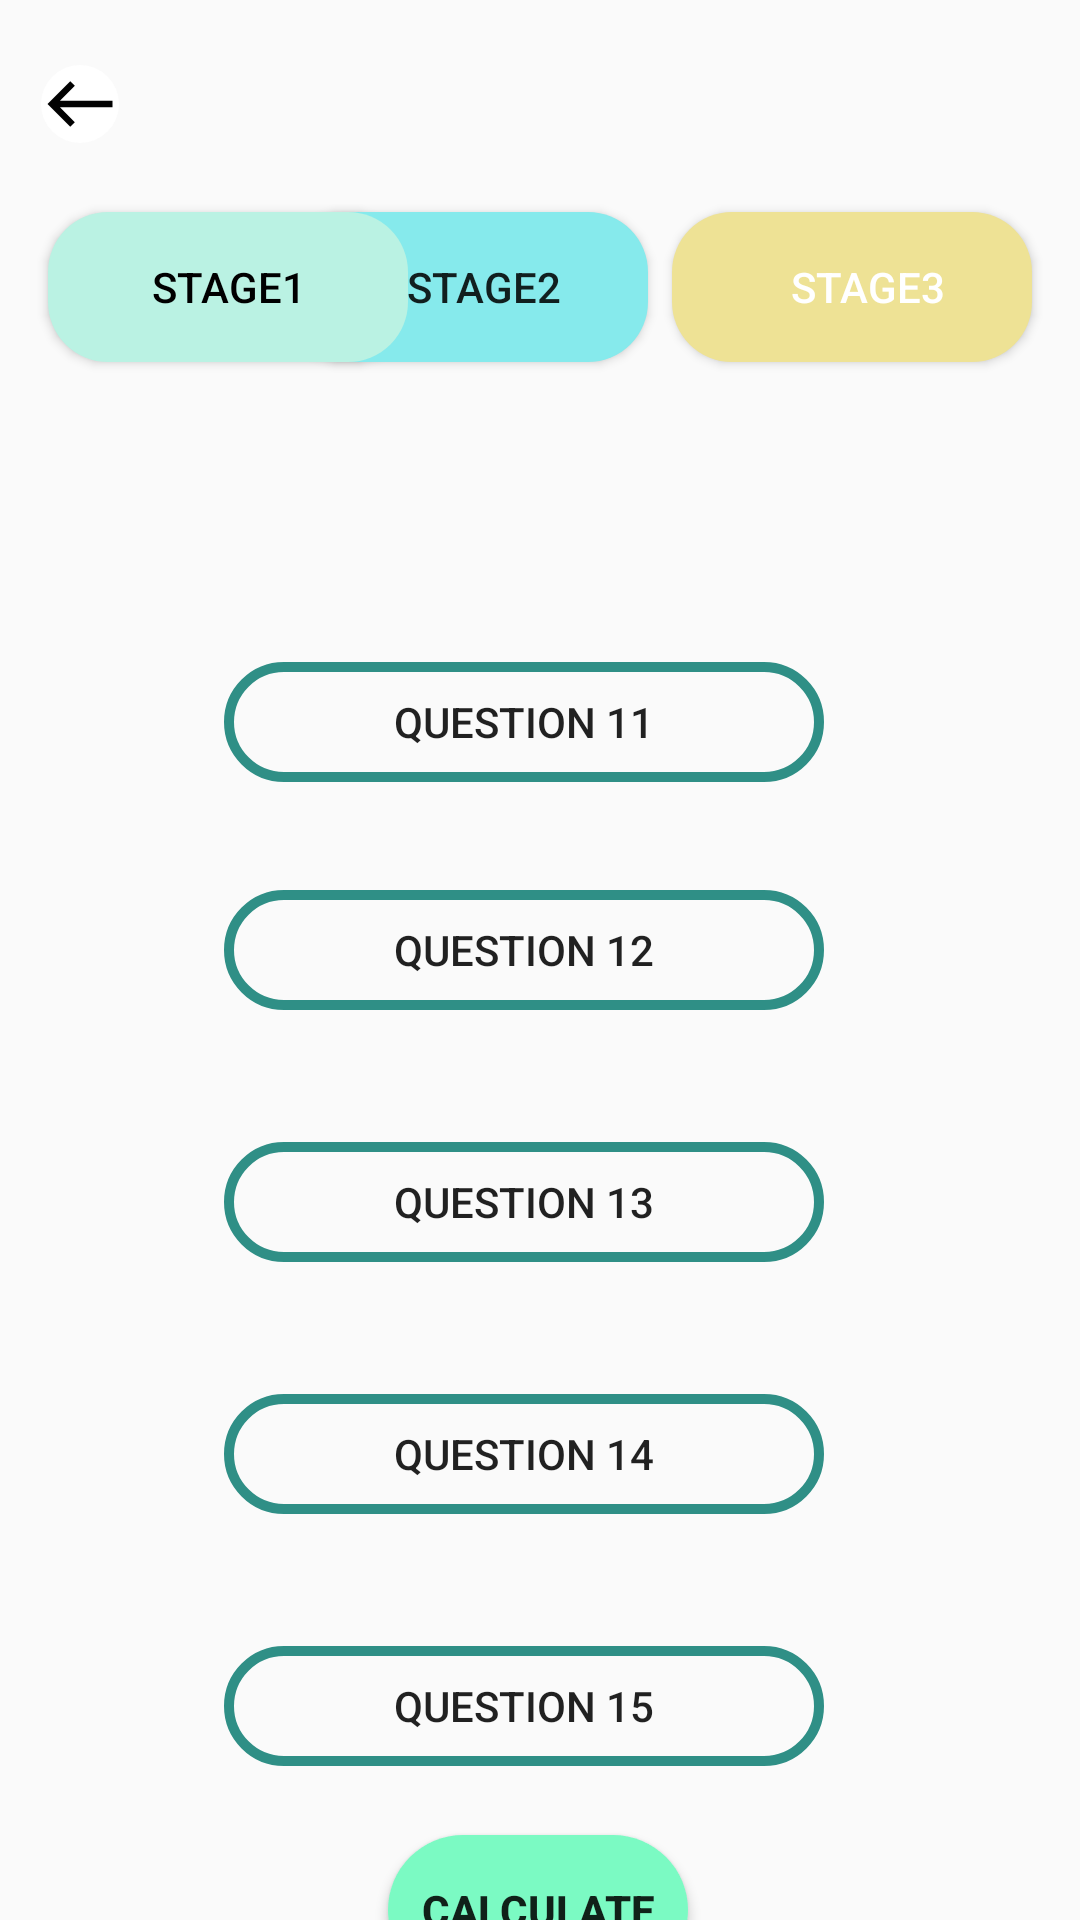

Icon click points for this 1080w x 1920h phone screenshot, format point (x, y):
west: point (80, 104)
